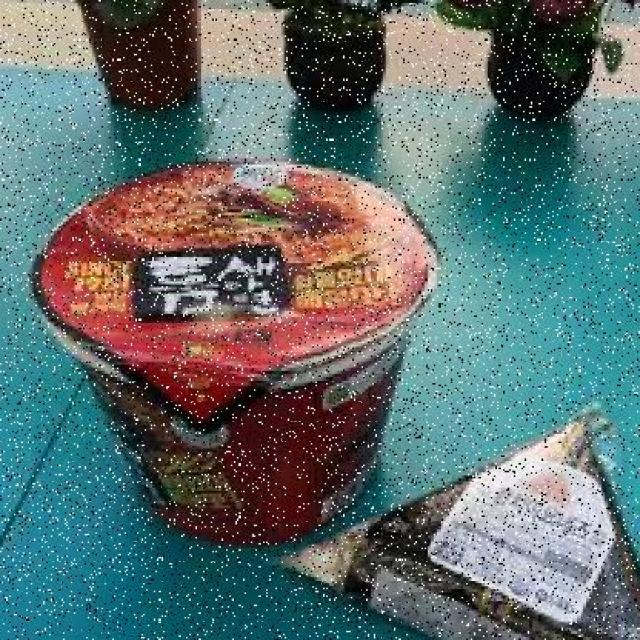Miscellaneous: (20, 147, 457, 564)
